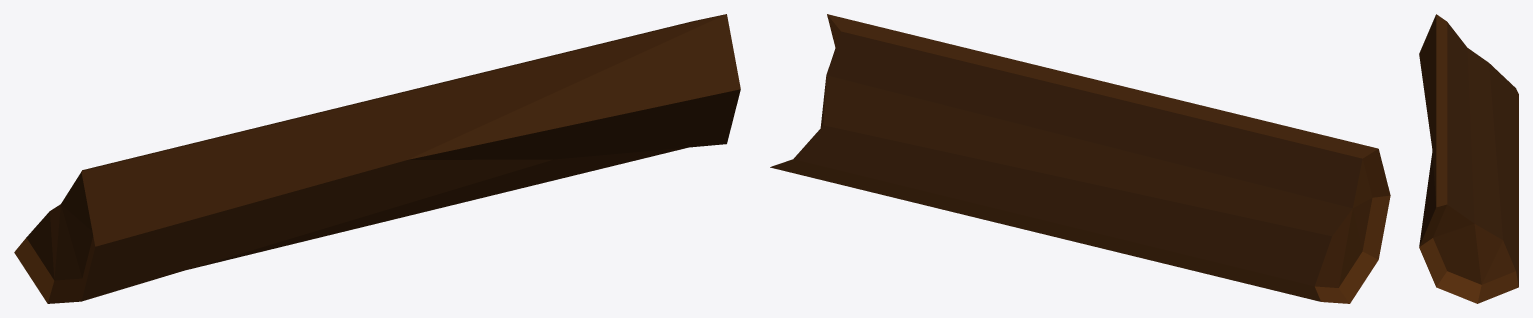
The model's file is log_03.fbx.
The picture shows the model from 3 angles, left to right: view 1: azimuth 30°, elevation 25°; view 2: azimuth 150°, elevation 25°; view 3: azimuth 270°, elevation 25°; orthographic projection. The views are drawn at different scales.
Parts seen in each view (by area): view 1: log_03; view 2: log_03; view 3: log_03.
Boxes of the visible parts, bbox=[...] form: log_03: bbox=[14, 14, 740, 303]; log_03: bbox=[770, 14, 1390, 303]; log_03: bbox=[1419, 14, 1518, 303].
Bounding box in the file's own units: 0.902 × 0.2097 × 0.1965.
